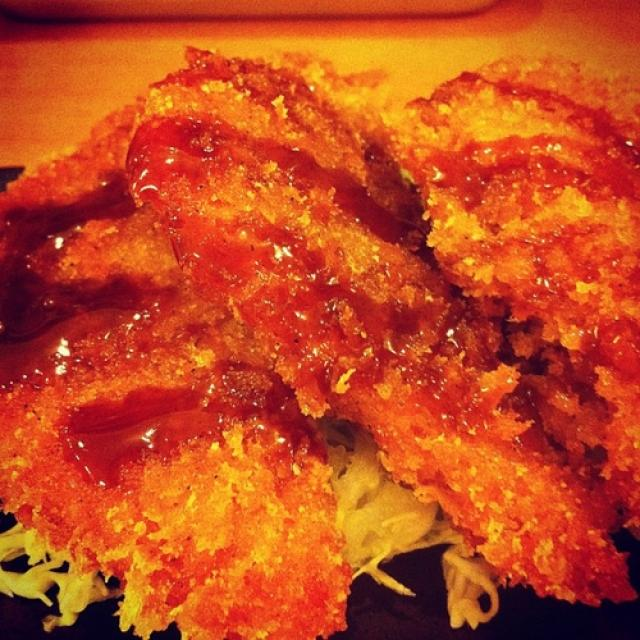炸货点心: (8, 16, 631, 628)
